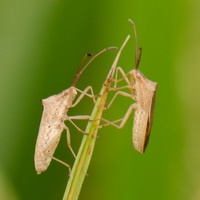insect: (34, 22, 156, 173), (34, 47, 116, 173), (101, 94, 135, 121)
